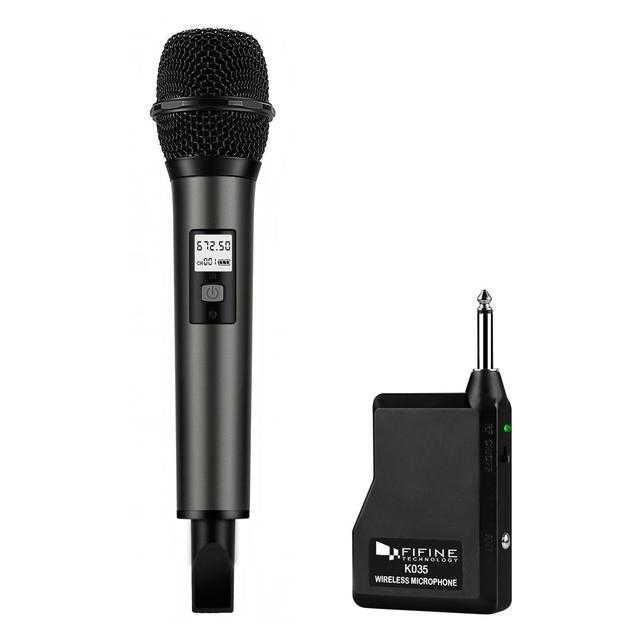microphone: (152, 26, 272, 594), (152, 30, 271, 169)
